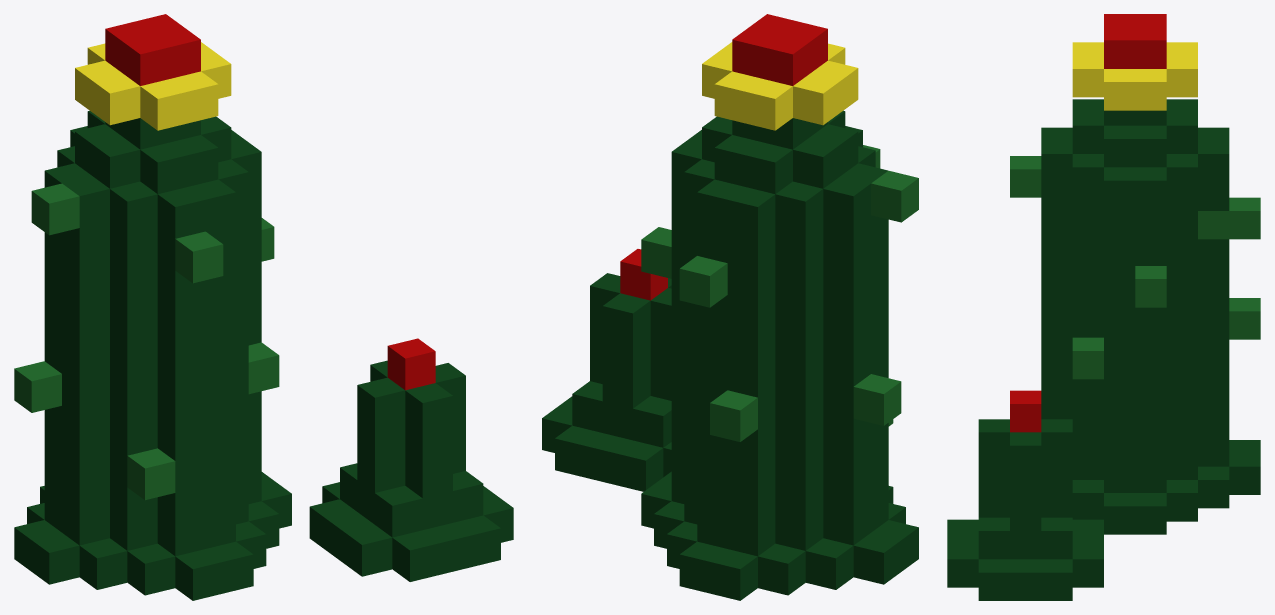
Rendered from Background_B_tree_04.FBX.
3 renders of one model, left to right at view 1: azimuth 30°, elevation 25°; view 2: azimuth 150°, elevation 25°; view 3: azimuth 270°, elevation 25°, orthographic. The views are drawn at different scales.
Parts seen in each view (by area): view 1: untitled-13; view 2: untitled-13; view 3: untitled-13.
Boxes of the visible parts, x1,y1,x2,y2 form: untitled-13: (14, 14, 513, 600); untitled-13: (542, 14, 918, 600); untitled-13: (947, 14, 1260, 600).
Bounding box in the file's own units: 1.3 × 1.6 × 1.
1 material, 1 textured.
